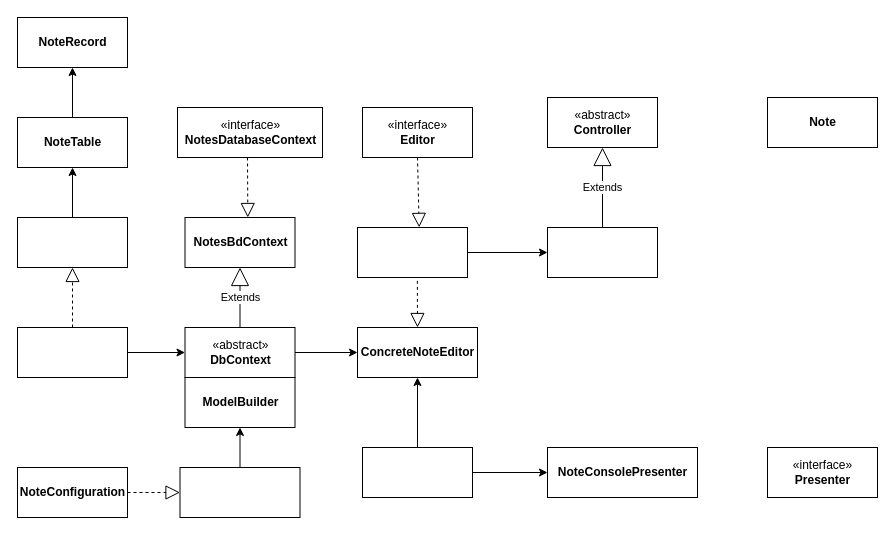
The diagram is 895 pixels wide and 535 high, and some of its shapes have lost their labels. Here are the shapes that lost their labels. From the top down, the box of each, then its label:
(16, 216, 128, 268): NoteDatabase
(356, 226, 468, 278): «interface» NoteEditor
(546, 226, 658, 278): NotesController
(16, 326, 128, 378): «interface» Database
(179, 466, 300, 518): «interface» ModelConfiguration
(362, 446, 472, 498): «interface» NotePresenter
